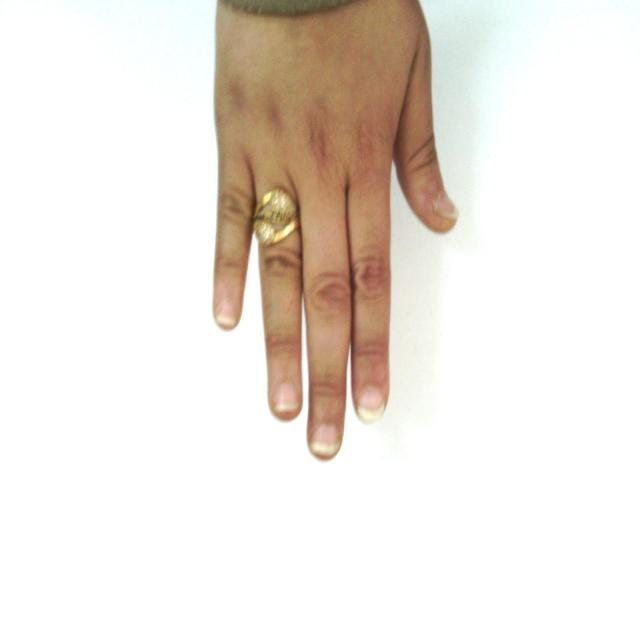Fingernail: (358, 385, 384, 422), (311, 424, 341, 456), (274, 382, 298, 413), (435, 195, 459, 219), (215, 300, 237, 325)
